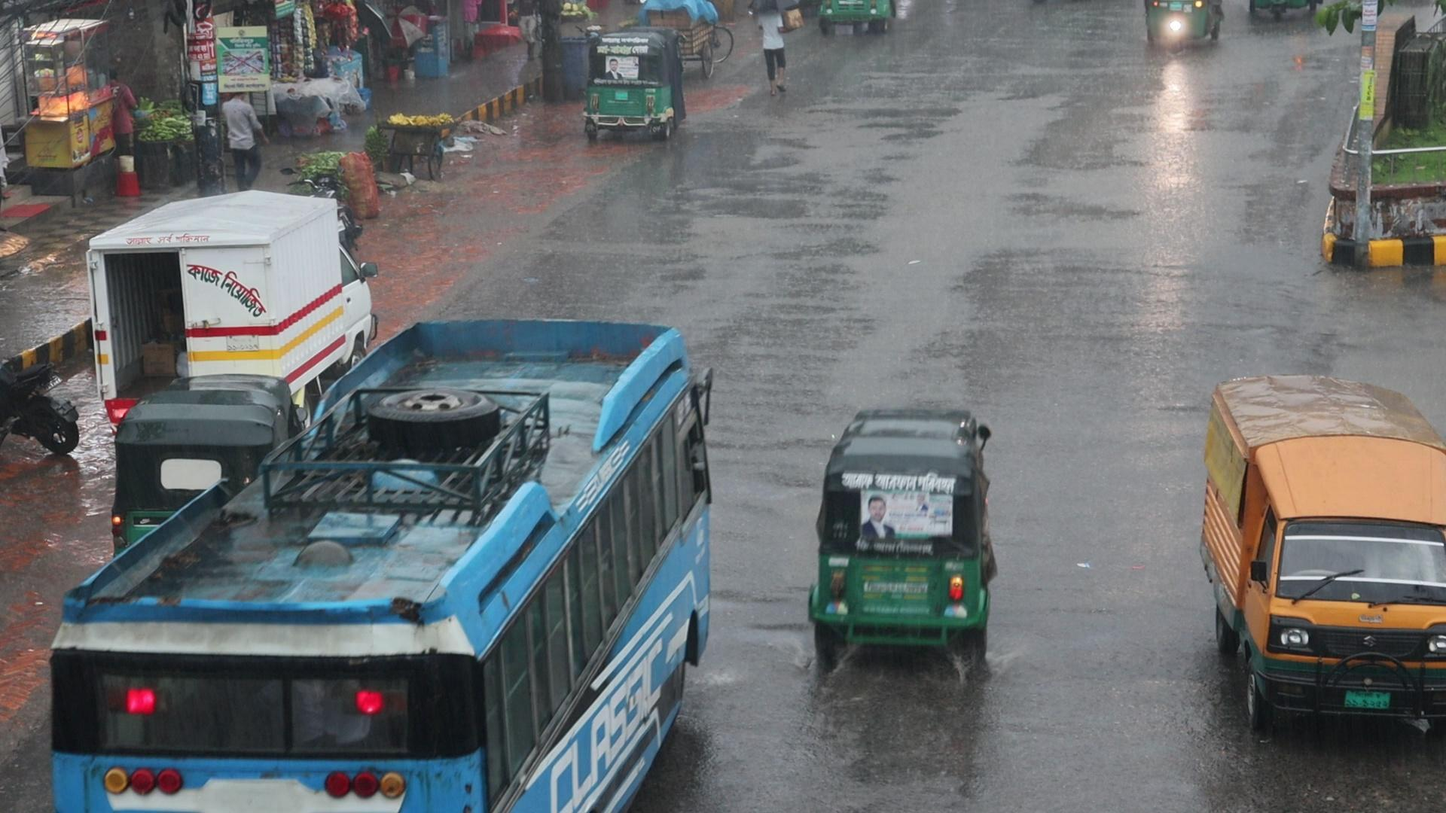Bus: (45, 313, 718, 813)
Truck: (1203, 368, 1446, 740)
